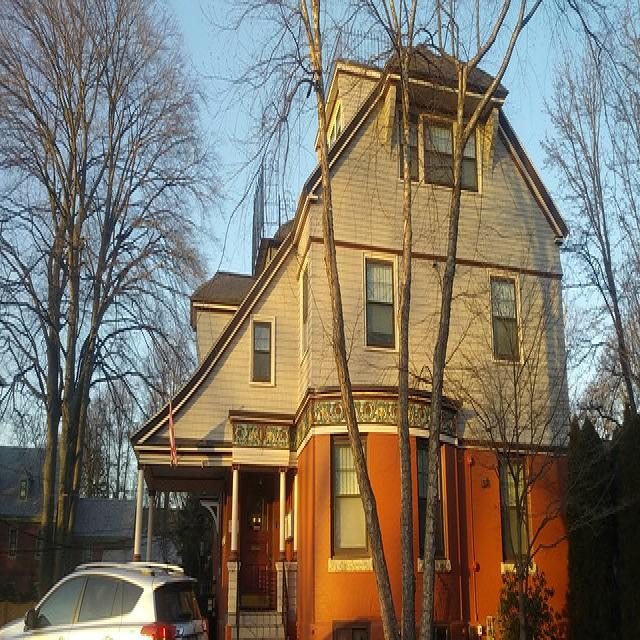building: (132, 29, 578, 639)
